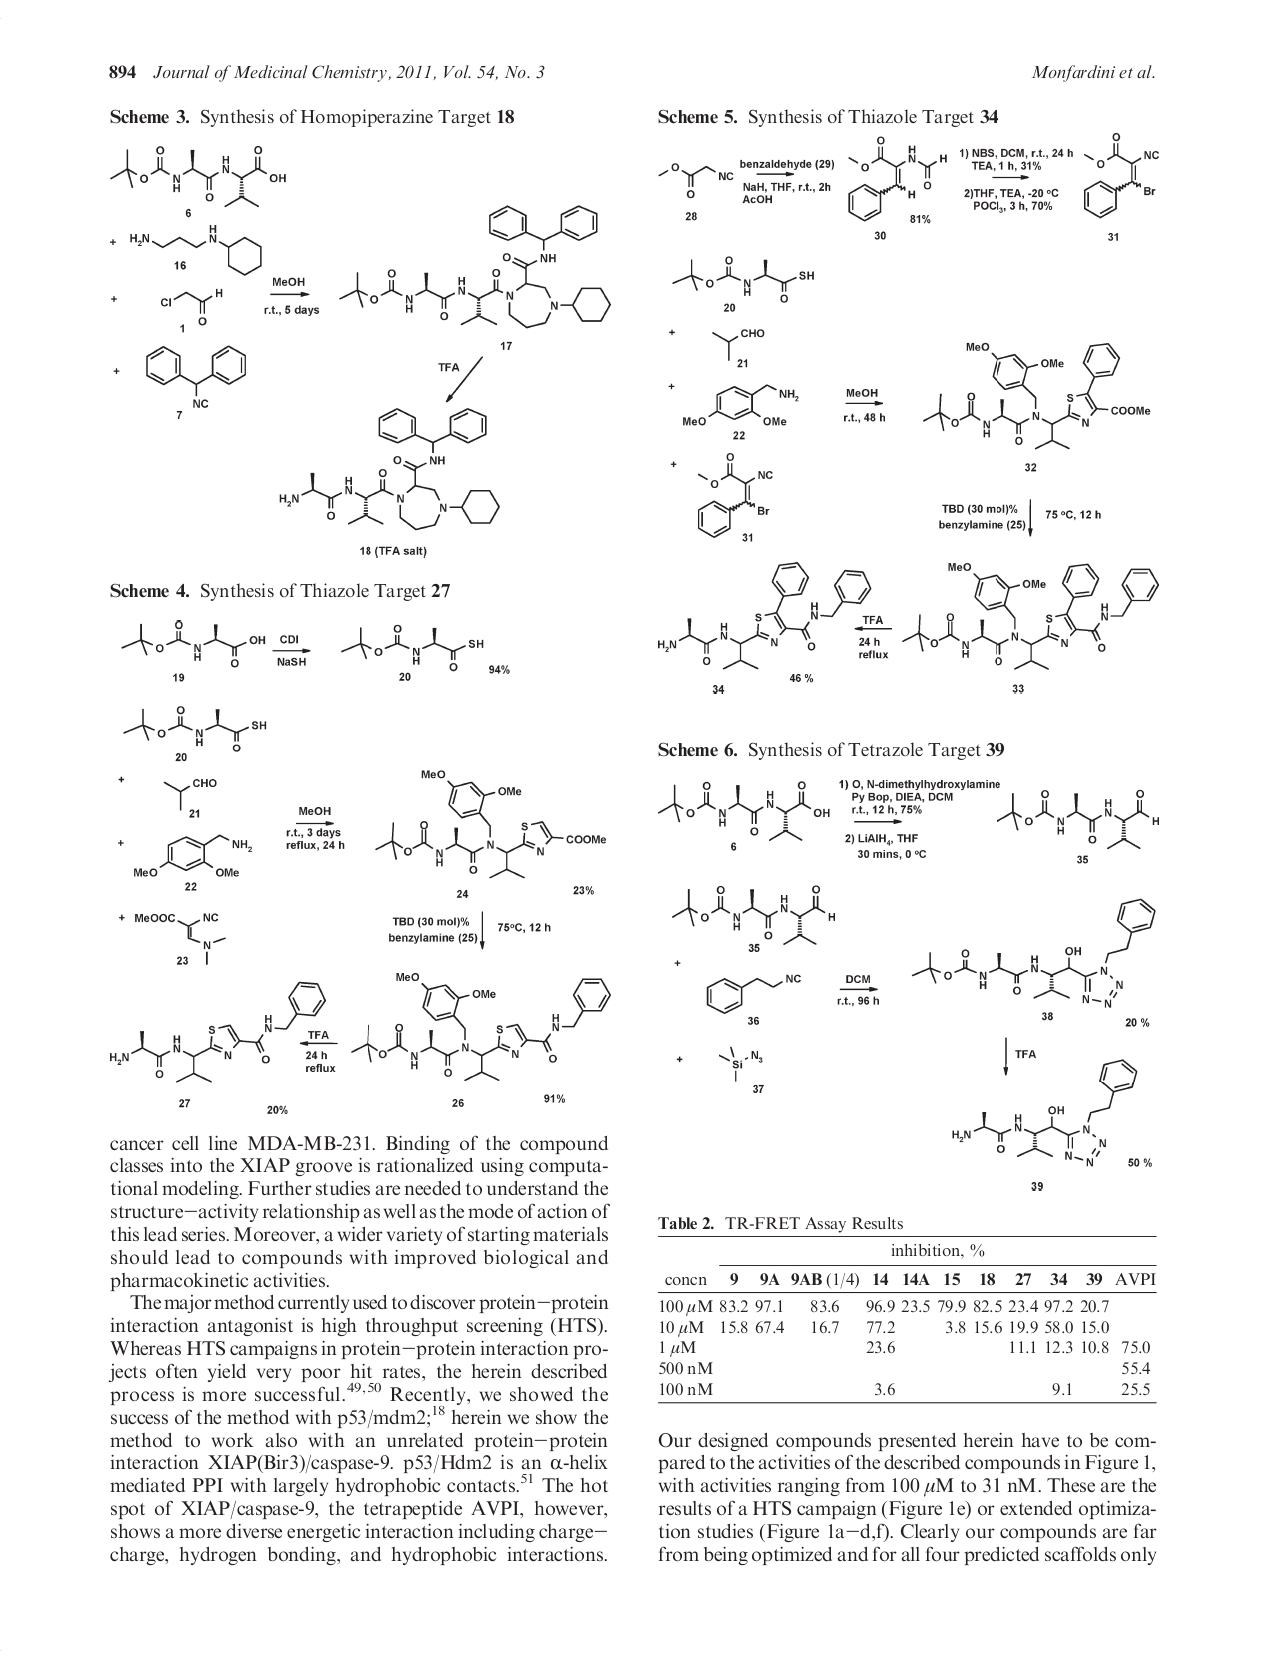exist_molecular: (332, 199, 613, 332), (348, 967, 614, 1083), (902, 556, 1161, 673), (273, 406, 505, 532), (906, 894, 1160, 1008), (912, 334, 1154, 453), (372, 762, 612, 880), (652, 556, 872, 674), (102, 977, 328, 1087), (947, 1057, 1138, 1172), (106, 138, 290, 210), (656, 773, 832, 844), (668, 880, 838, 946), (996, 789, 1162, 852), (836, 130, 949, 222), (668, 243, 819, 305), (336, 614, 487, 676), (116, 700, 273, 755), (113, 618, 269, 670), (689, 449, 777, 539), (126, 221, 266, 277), (137, 340, 249, 410), (1081, 129, 1162, 222), (132, 906, 230, 969), (133, 830, 255, 880), (681, 380, 801, 430), (699, 968, 803, 1013), (652, 156, 734, 201), (154, 285, 227, 327), (158, 766, 218, 815), (711, 1035, 765, 1083), (706, 322, 766, 360)
